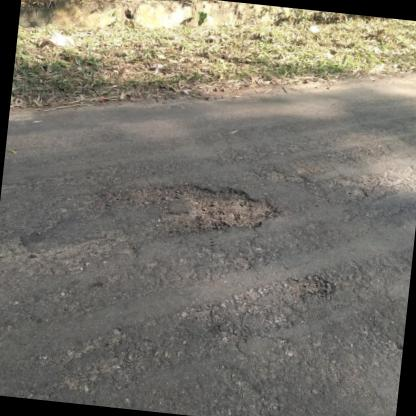pothole: (109, 172, 284, 246), (284, 270, 338, 306)
